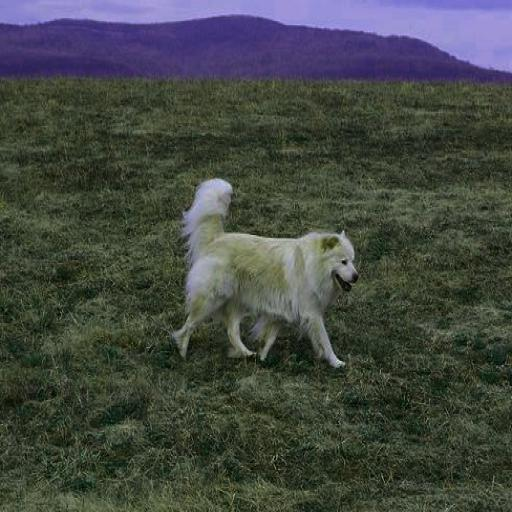dog_face: (327, 229, 362, 298)
